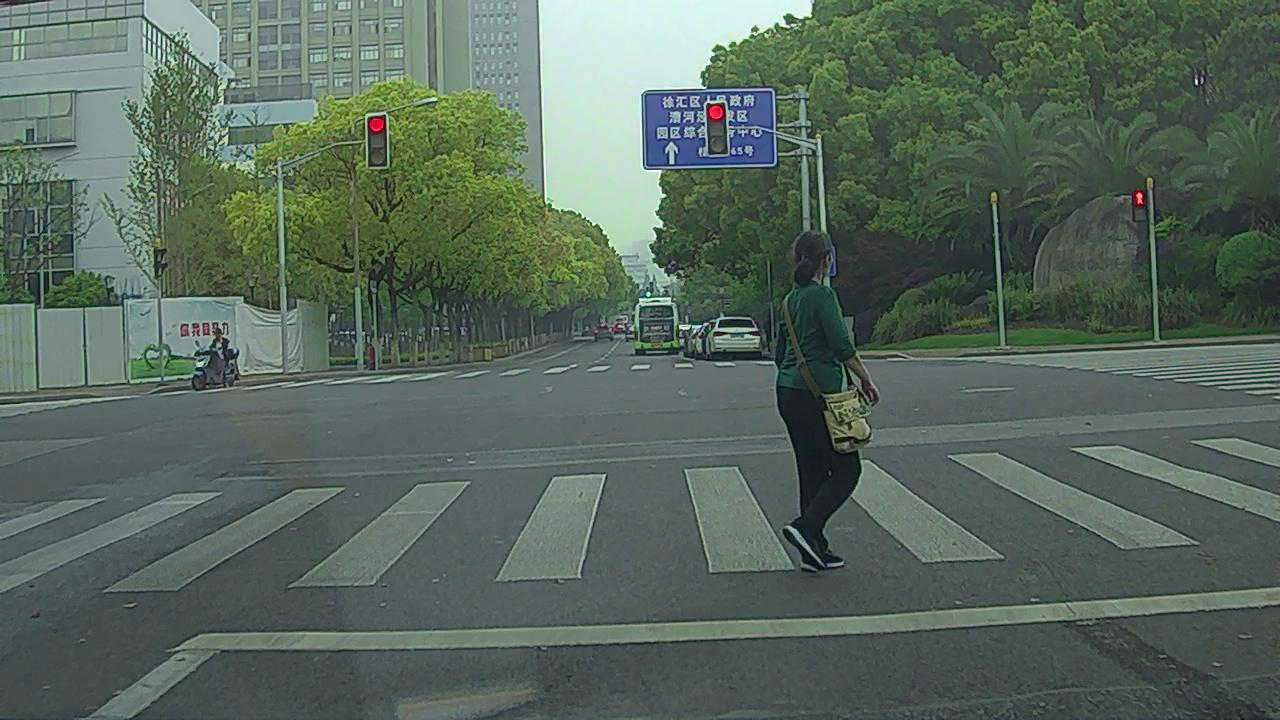traffic_light: (365, 116, 388, 168), (705, 103, 727, 154)
